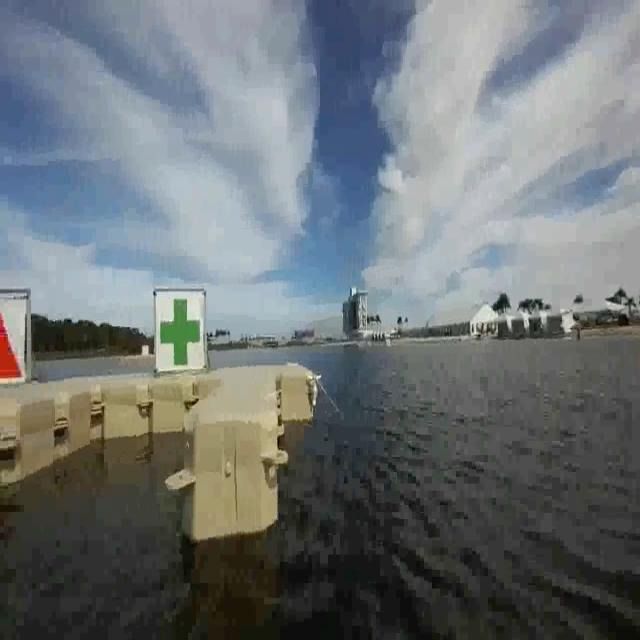blue-cross: (158, 289, 204, 369)
red-dot: (0, 291, 26, 381)
